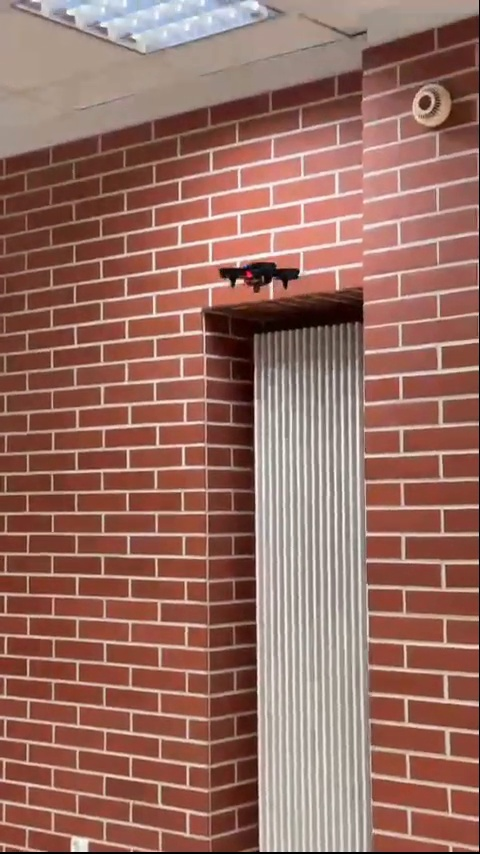drone: (217, 258, 303, 296)
